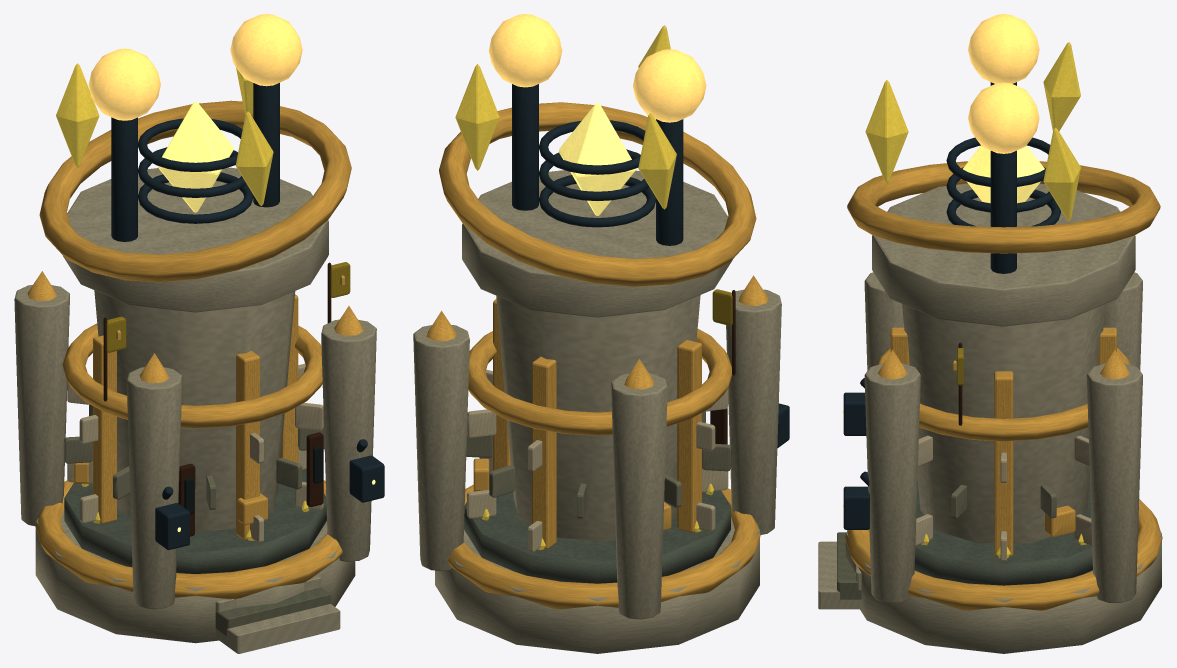
The model's file is tower-thunder-3-base.glb.
3 renders of one model, left to right at view 1: azimuth 30°, elevation 25°; view 2: azimuth 150°, elevation 25°; view 3: azimuth 270°, elevation 25°, orthographic. The views are drawn at different scales.
Parts seen in each view (by area): view 1: Foundation, Turret, thunder-L3-base; view 2: Foundation, Turret, thunder-L3-base; view 3: Foundation, Turret, thunder-L3-base.
Boxes of the visible parts, box(x1,y1,x2,y2) form: Foundation: box(14, 262, 384, 653); Turret: box(39, 14, 351, 312); thunder-L3-base: box(35, 469, 355, 643); Foundation: box(413, 275, 789, 619); Turret: box(439, 14, 756, 317); thunder-L3-base: box(435, 490, 759, 653); Foundation: box(818, 272, 1162, 610); Turret: box(847, 14, 1160, 326); thunder-L3-base: box(845, 480, 1161, 653).
Bounding box in the file's own units: 1.69 × 3.14 × 1.83.
17 materials, 17 textured.
